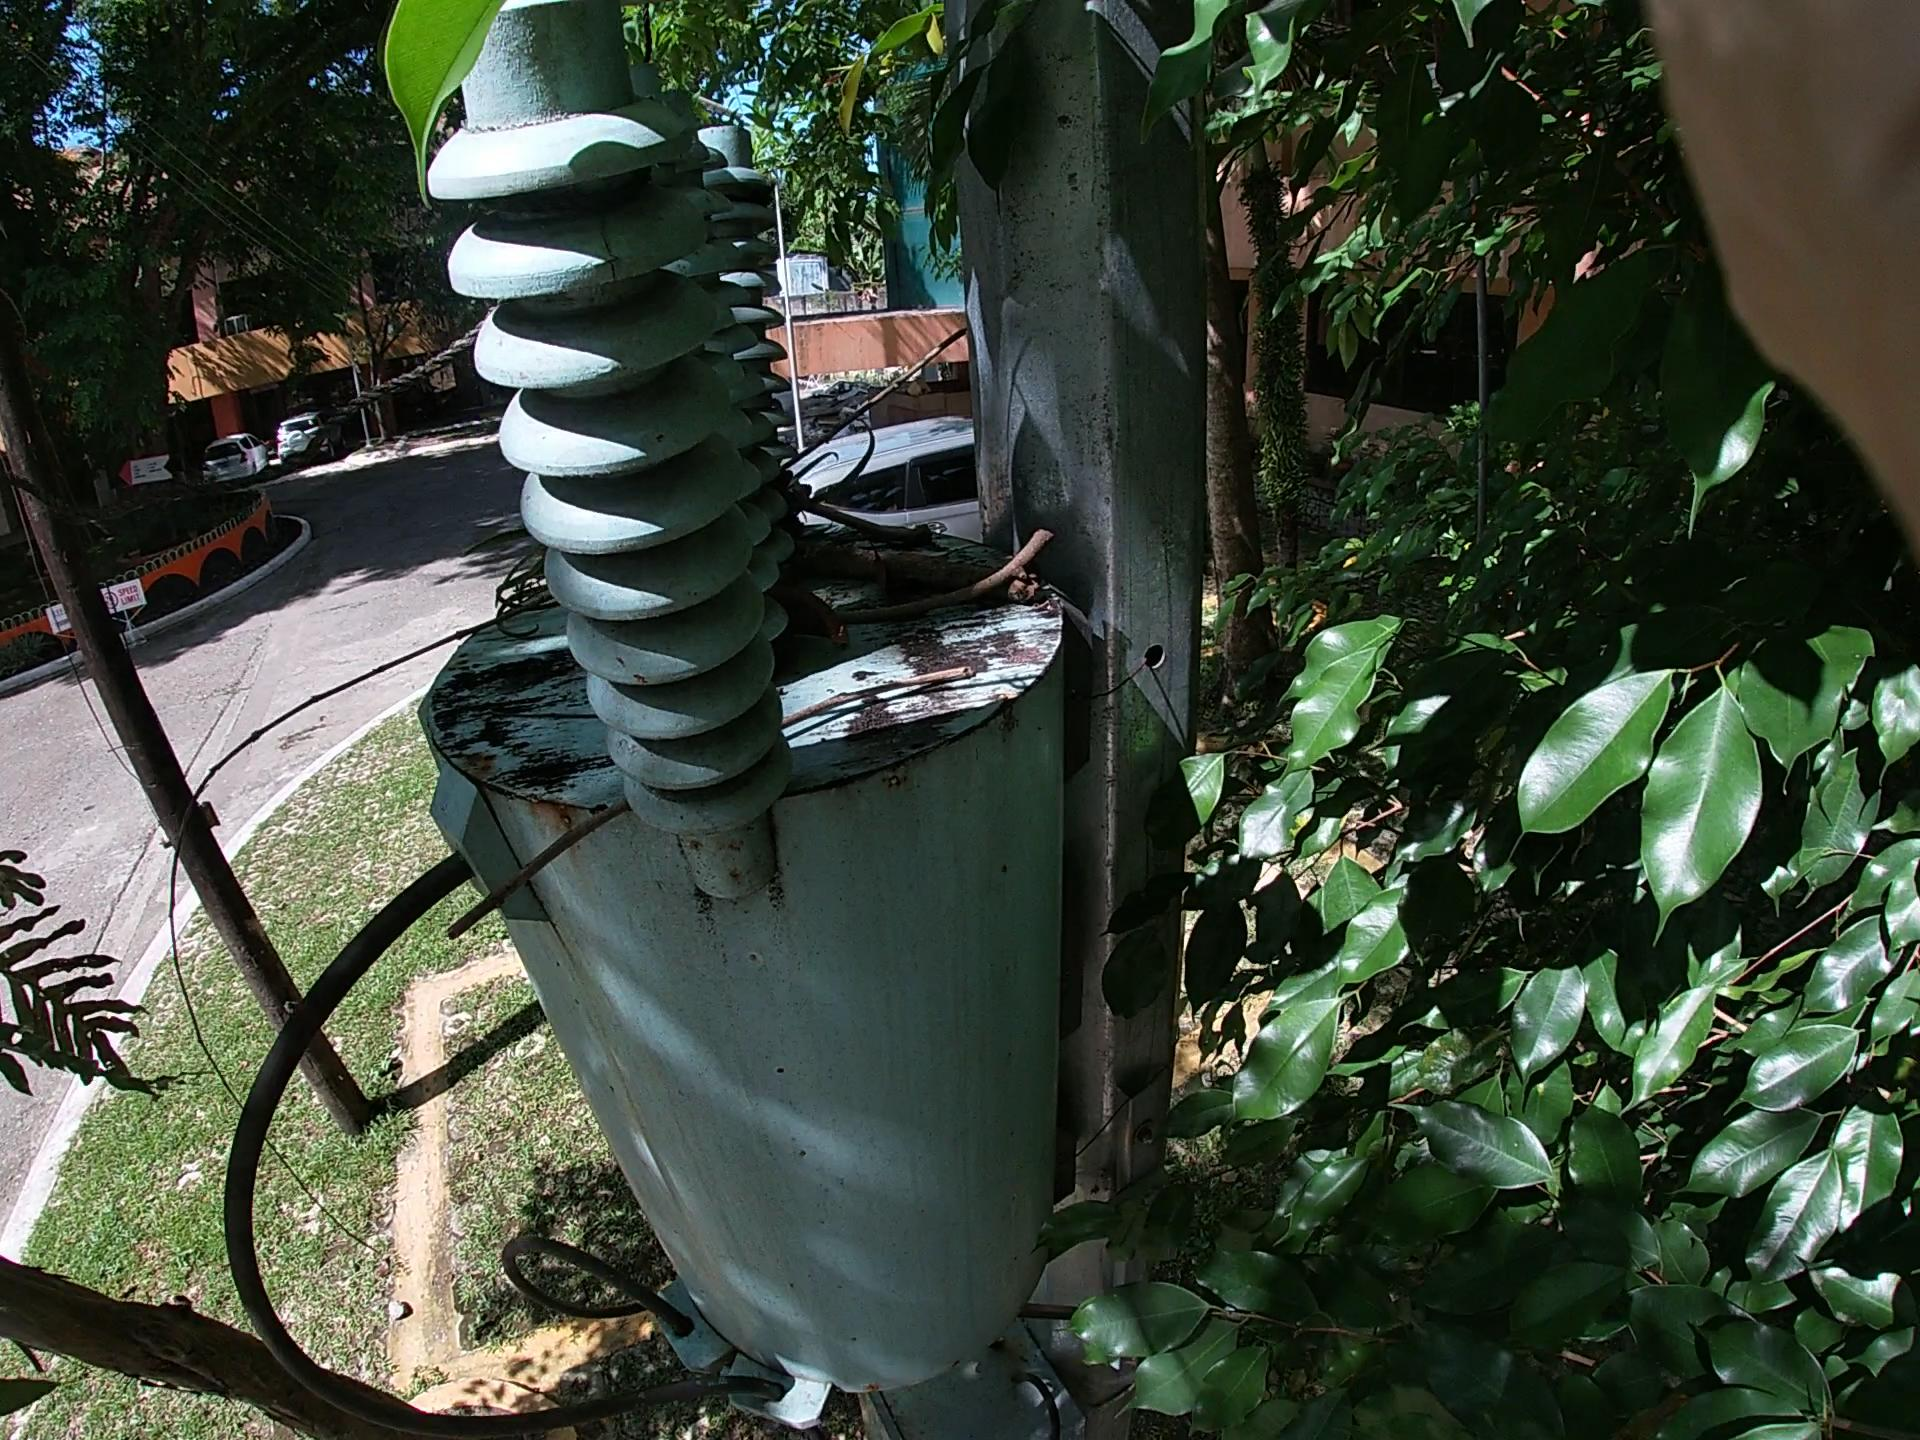leaf: (830, 469, 990, 655)
tree branch: (457, 632, 841, 957), (720, 213, 1028, 557), (659, 445, 949, 570), (954, 511, 1101, 631)
